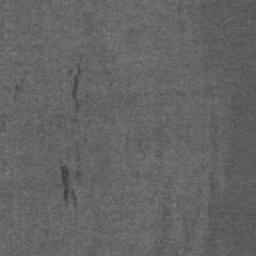Iron scale compression: (60, 165, 79, 211), (73, 77, 80, 118)
